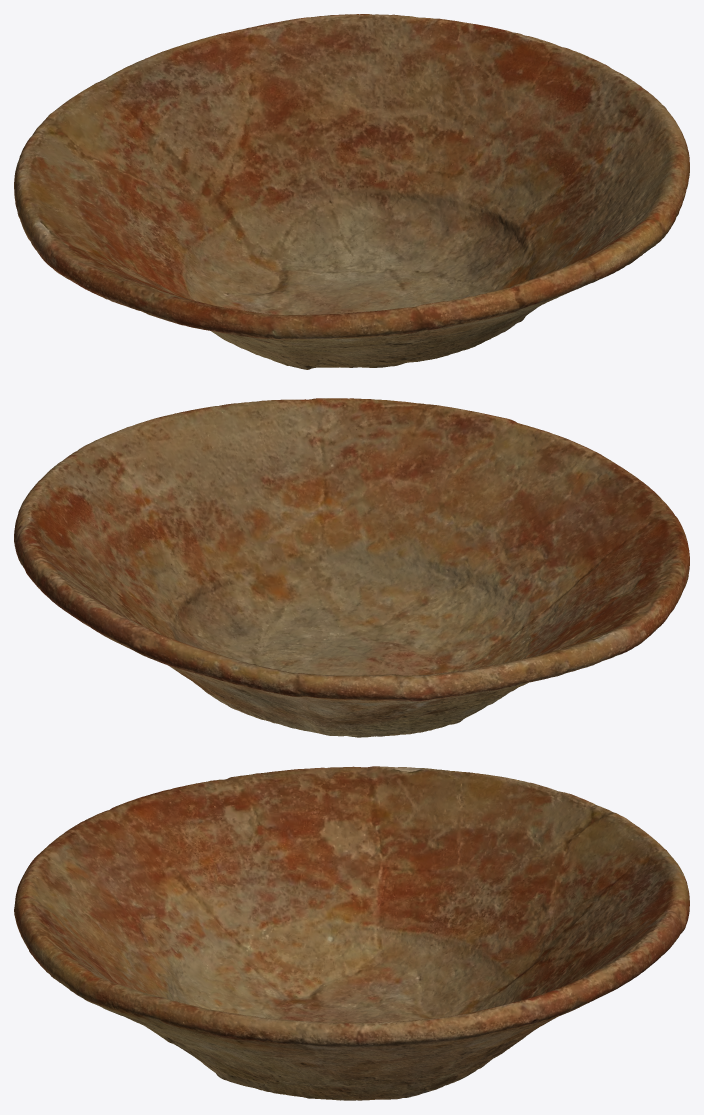
The picture shows the model from 3 angles, top to bottom: view 1: azimuth 30°, elevation 25°; view 2: azimuth 150°, elevation 25°; view 3: azimuth 270°, elevation 25°; orthographic projection.
Parts seen in each view (by area): view 1: Mesh_0.008; view 2: Mesh_0.008; view 3: Mesh_0.008.
Boxes of the visible parts, x1,y1,x2,y2 form: Mesh_0.008: (14, 14, 689, 369); Mesh_0.008: (14, 398, 689, 737); Mesh_0.008: (14, 766, 689, 1100).
Bounding box in the file's own units: 0.2311 × 0.0615 × 0.2263.
Materials: 1 (1 with a texture image).
